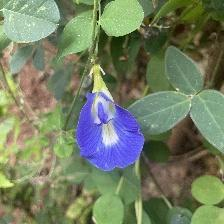shankupushpam: (75, 88, 148, 174)
